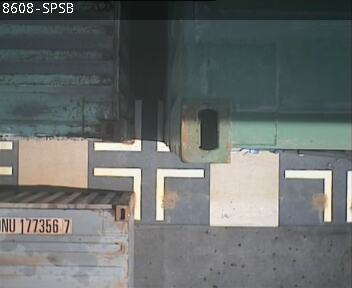groundmarker_1: (93, 165, 204, 220), (95, 99, 169, 152)
